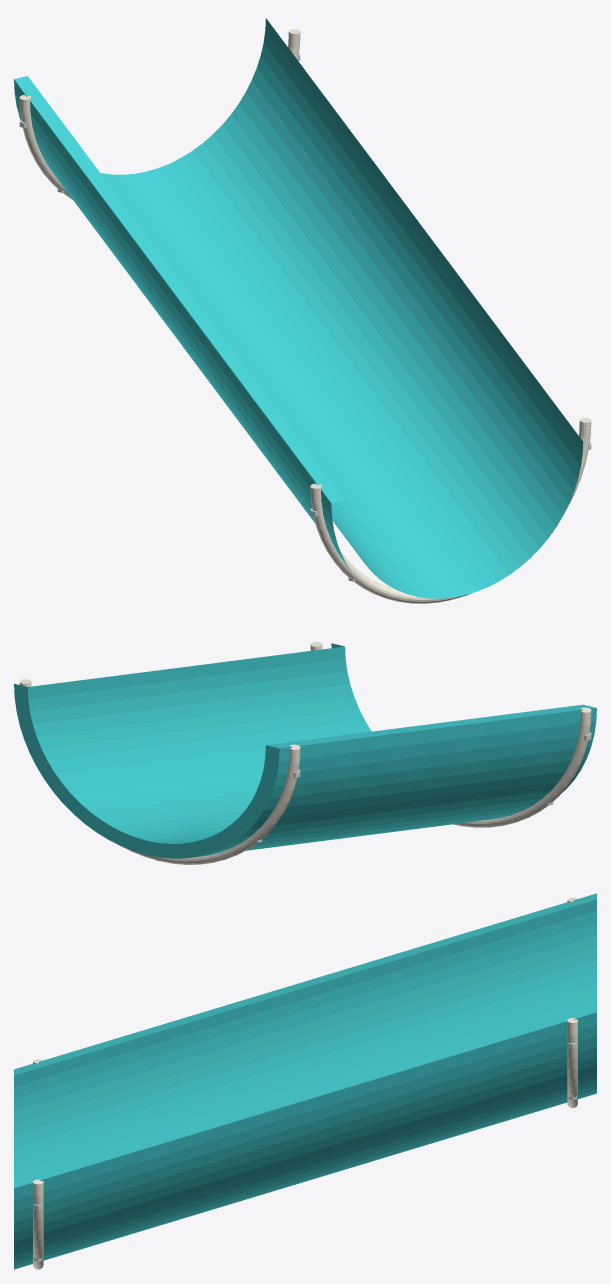
File: waterpark-and-pool-operations-waterpark-and-pool-opera-ae240dbe__28954.glb
3 renders of one model, top to bottom at view 1: azimuth 30°, elevation 25°; view 2: azimuth 150°, elevation 25°; view 3: azimuth 270°, elevation 25°, orthographic. The views are drawn at different scales.
Visible parts, largest first — view 1: waterpark-and-pool-operations-slide-straight-descending; view 2: waterpark-and-pool-operations-slide-straight-descending; view 3: waterpark-and-pool-operations-slide-straight-descending.
Part boxes in pixels (bbox=[...]): waterpark-and-pool-operations-slide-straight-descending: bbox=[14, 18, 591, 603]; waterpark-and-pool-operations-slide-straight-descending: bbox=[14, 642, 596, 864]; waterpark-and-pool-operations-slide-straight-descending: bbox=[14, 893, 596, 1269].
Size of the model in its own units: 1.53 by 1.73 by 3.
